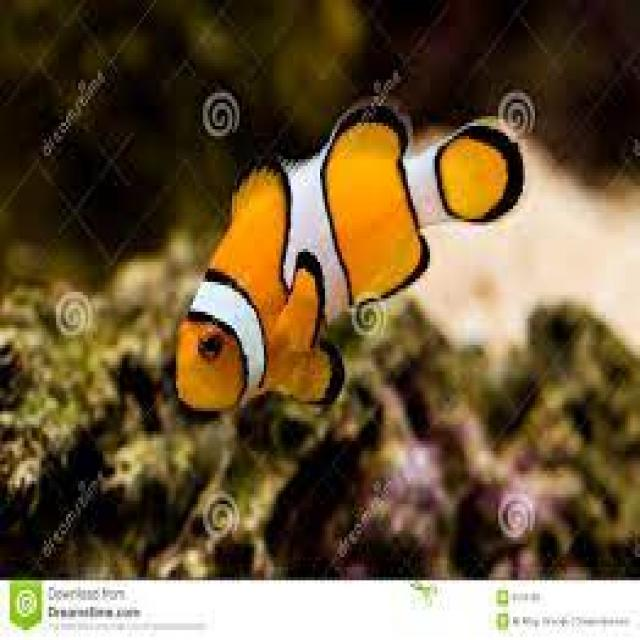Amphiprion-percula: (154, 84, 544, 447), (150, 82, 535, 445)
